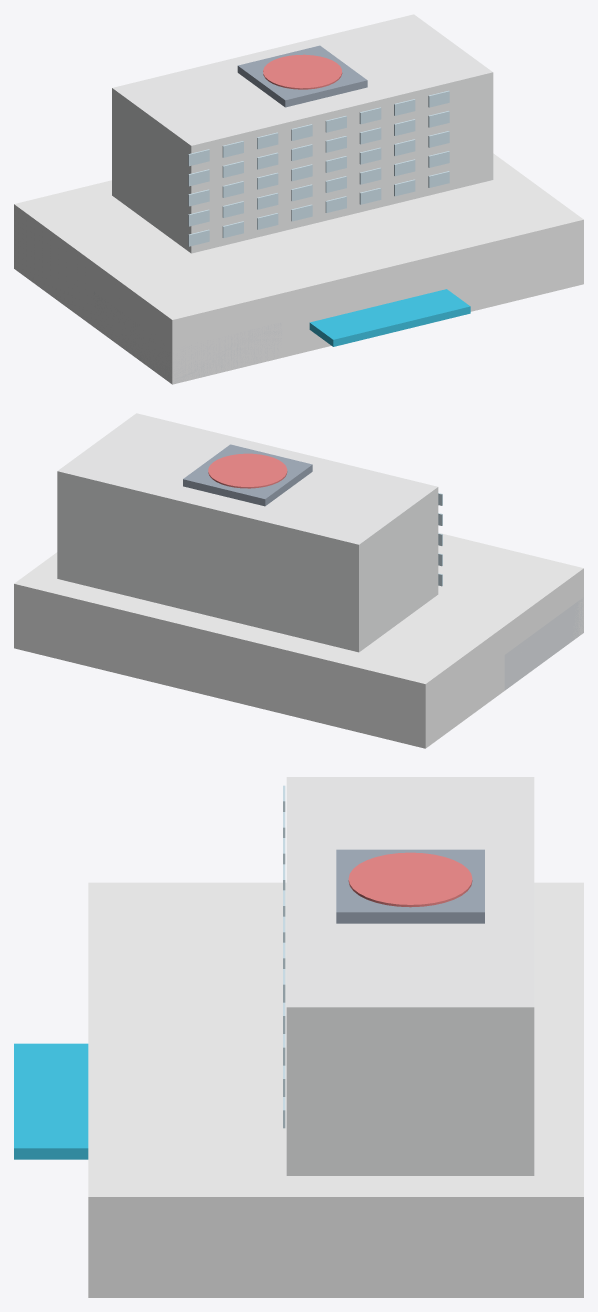
File: general_hospital.gltf
3 renders of one model, top to bottom at view 1: azimuth 30°, elevation 25°; view 2: azimuth 150°, elevation 25°; view 3: azimuth 270°, elevation 25°, orthographic. The views are drawn at different scales.
Size of the model in its own units: 300 by 126 by 230.
